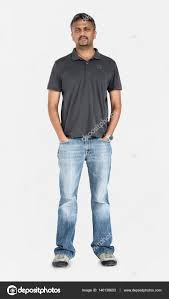standing: (37, 9, 129, 273)
